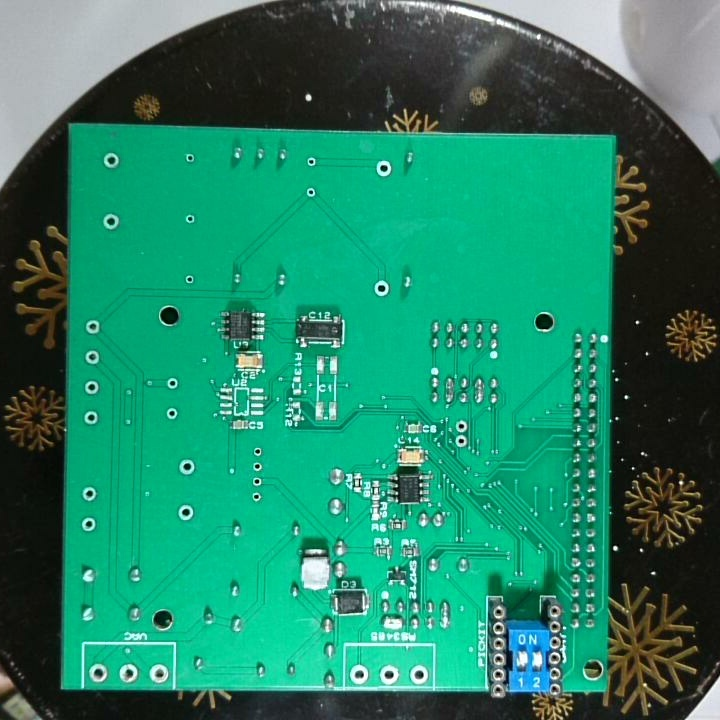F: (147, 662, 171, 686), (88, 660, 111, 684), (117, 660, 140, 684), (378, 663, 402, 686), (371, 278, 393, 300), (79, 482, 99, 506), (348, 662, 368, 686), (177, 457, 199, 478), (408, 663, 428, 686), (176, 503, 197, 524), (82, 346, 102, 368), (374, 159, 394, 180), (101, 211, 120, 233), (82, 317, 102, 337), (101, 150, 120, 171), (79, 514, 98, 535), (83, 378, 102, 397), (80, 409, 99, 427), (162, 406, 180, 423), (452, 433, 471, 449), (248, 489, 265, 506), (164, 376, 180, 394), (453, 418, 471, 434), (250, 458, 265, 475), (249, 472, 264, 489), (183, 210, 197, 228), (251, 443, 266, 458), (183, 150, 197, 166), (183, 272, 197, 287), (305, 155, 318, 171), (304, 184, 316, 200)
P: (379, 613, 406, 634), (437, 598, 452, 631), (442, 374, 457, 403), (471, 375, 485, 405)
